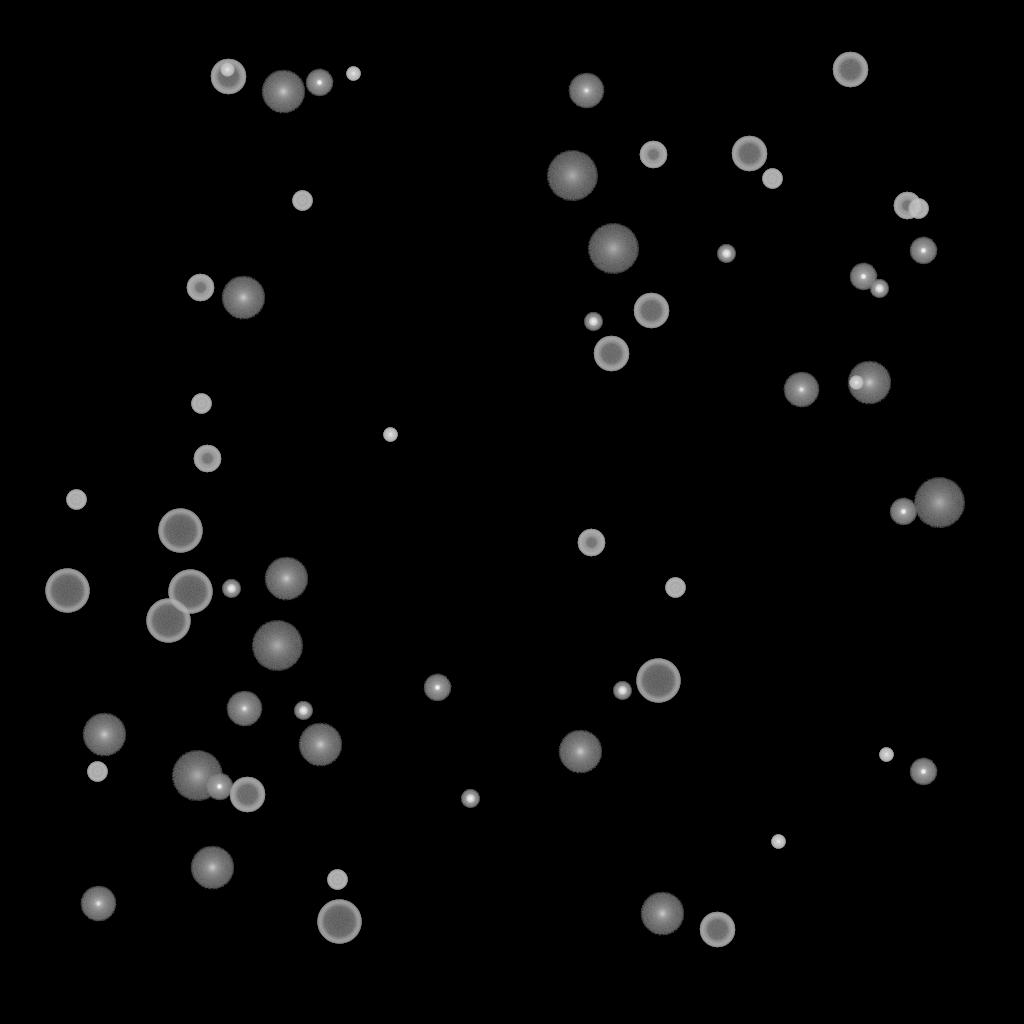depth:-10: (205, 773, 233, 801), (909, 758, 937, 786), (889, 498, 917, 526), (909, 237, 937, 265), (423, 674, 451, 702), (849, 263, 877, 291), (305, 69, 333, 97)
depth:-20: (584, 313, 602, 331), (870, 280, 888, 298), (461, 790, 479, 808), (717, 245, 735, 263), (613, 682, 631, 700), (222, 580, 240, 598), (294, 702, 312, 720)
depth:-30: (383, 428, 397, 442), (771, 835, 785, 849), (849, 376, 863, 390), (220, 63, 234, 77), (346, 67, 360, 81), (879, 748, 893, 762)
depth:-40: (762, 169, 782, 189), (908, 199, 928, 219), (292, 191, 312, 211), (66, 490, 86, 510), (327, 870, 347, 890), (191, 394, 211, 414), (665, 578, 685, 598), (87, 762, 107, 782)
depth:-50: (893, 192, 921, 220), (193, 445, 221, 473), (186, 274, 214, 302), (639, 141, 667, 169), (577, 529, 605, 557)
depth:-60: (731, 136, 767, 172), (593, 336, 629, 372), (229, 777, 265, 813), (633, 293, 669, 329), (210, 59, 246, 95), (699, 912, 735, 948), (832, 52, 868, 88)
depth:-70: (317, 900, 361, 944), (158, 509, 202, 553), (168, 570, 212, 614), (45, 569, 89, 613), (636, 659, 680, 703), (146, 599, 190, 643)
depth:0: (568, 73, 604, 109), (226, 691, 262, 727), (783, 372, 819, 408), (80, 886, 116, 922)
depth:10: (298, 723, 342, 767), (221, 276, 265, 320), (847, 361, 891, 405), (558, 730, 602, 774), (82, 713, 126, 757), (261, 70, 305, 114), (264, 557, 308, 601), (190, 846, 234, 890), (640, 892, 684, 936)
depth:20: (171, 751, 223, 801), (546, 151, 598, 201), (251, 621, 303, 671), (913, 478, 965, 528), (587, 224, 639, 274)
